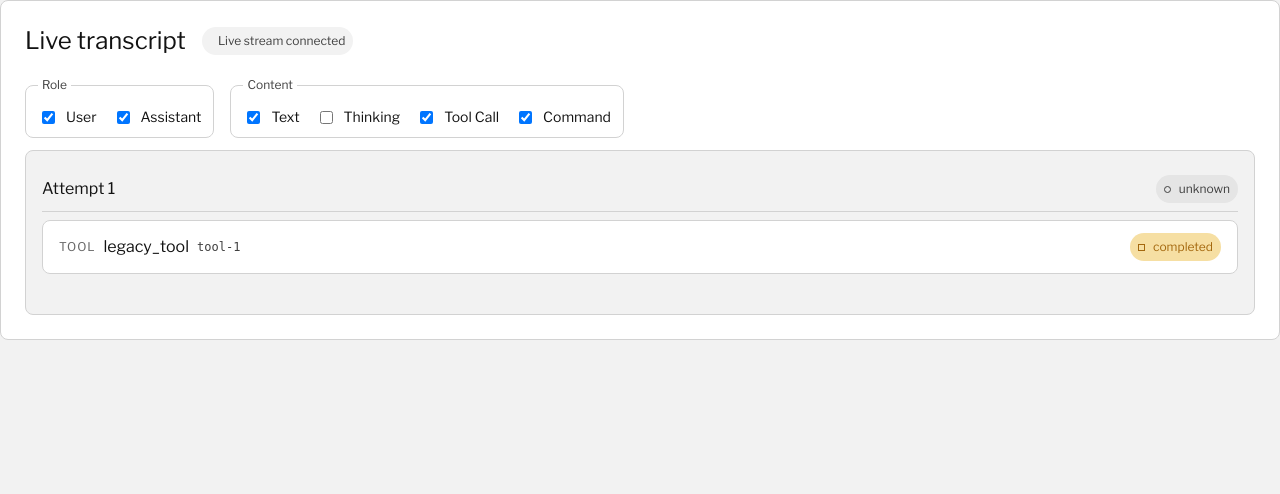
Test: JobTranscript component › tool disclosure and payload formatting › displays exact "Input was not captured for this event." and "Output was not captured for this event." when payloads are omitted
The image size is (1280, 494).
Click the heading "Tool legacy_tool tool-1 completed".
click(77, 246)  # box [59,233,1221,261]
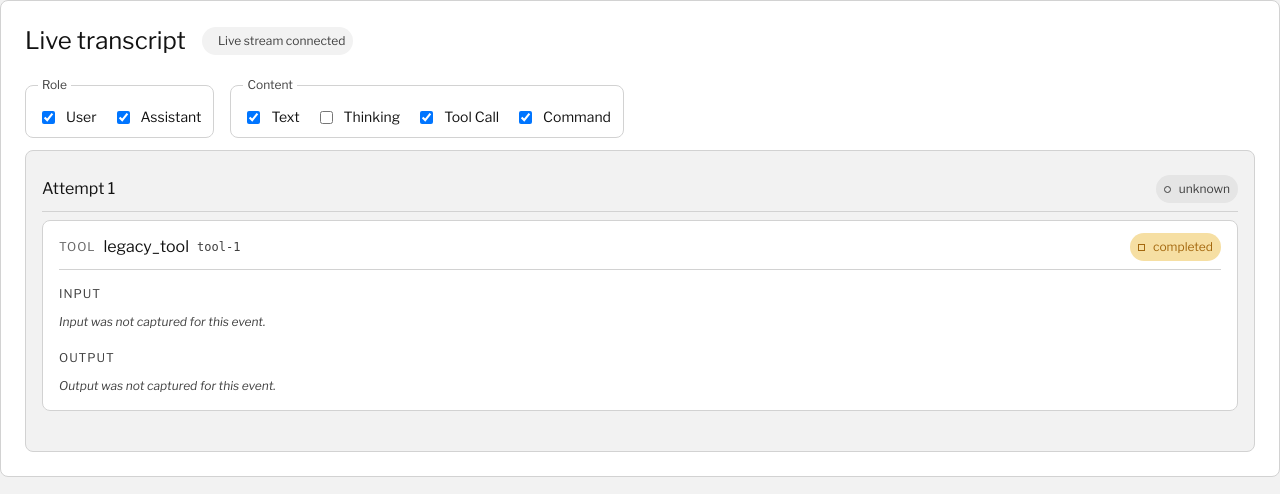
Check: the text "Input was not captured for this event." is shown, box [59,314,266,329]
Check: the text "Output was not captured for this event." is shown, box [59,378,276,393]
